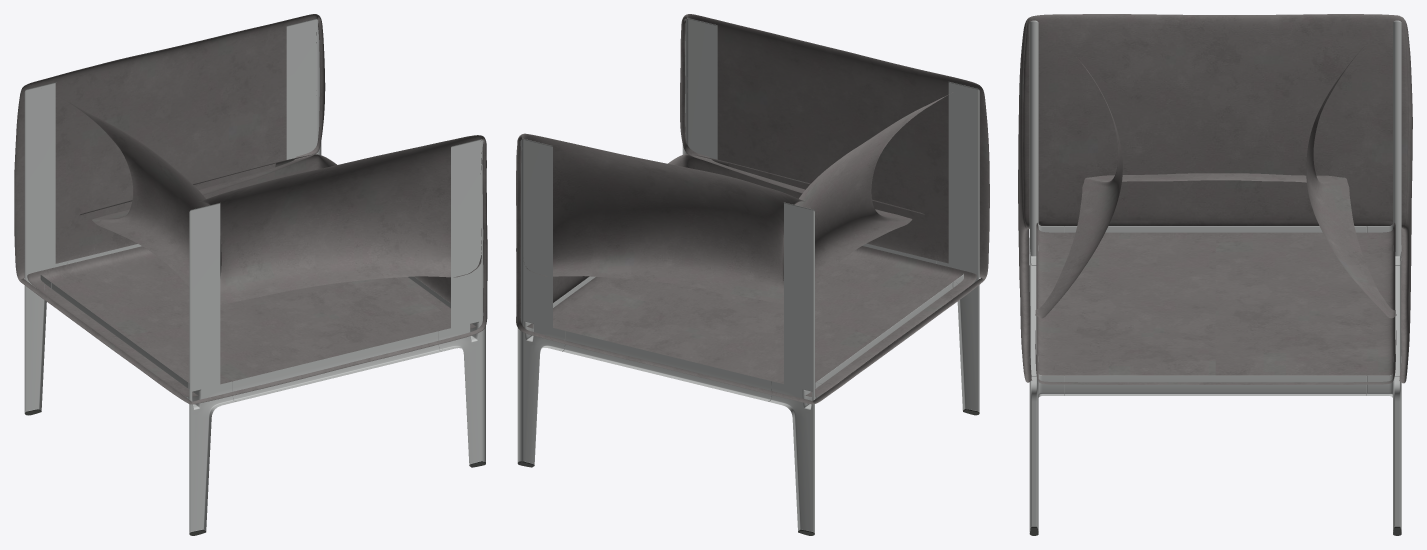
File: sillon.glb
The picture shows the model from 3 angles, left to right: view 1: azimuth 30°, elevation 25°; view 2: azimuth 150°, elevation 25°; view 3: azimuth 270°, elevation 25°; orthographic projection. The views are drawn at different scales.
Parts seen in each view (by area): view 1: sm_sofa_soft_b01_01; view 2: sm_sofa_soft_b01_01; view 3: sm_sofa_soft_b01_01.
Part boxes in pixels (x1,y1,x2,y2): sm_sofa_soft_b01_01: (14,14,487,535); sm_sofa_soft_b01_01: (516,14,989,535); sm_sofa_soft_b01_01: (1018,14,1412,535).
Bounding box in the file's own units: 0.7083 × 0.7275 × 0.7127.
Materials: 3 (3 with a texture image).
